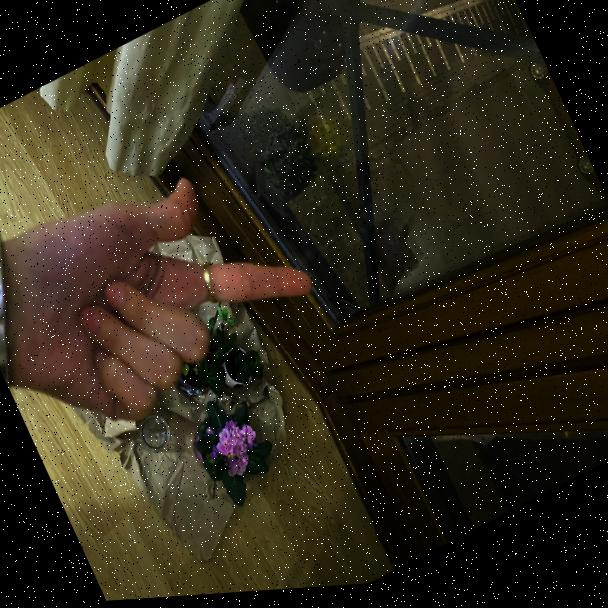five: (0, 113, 332, 454)
